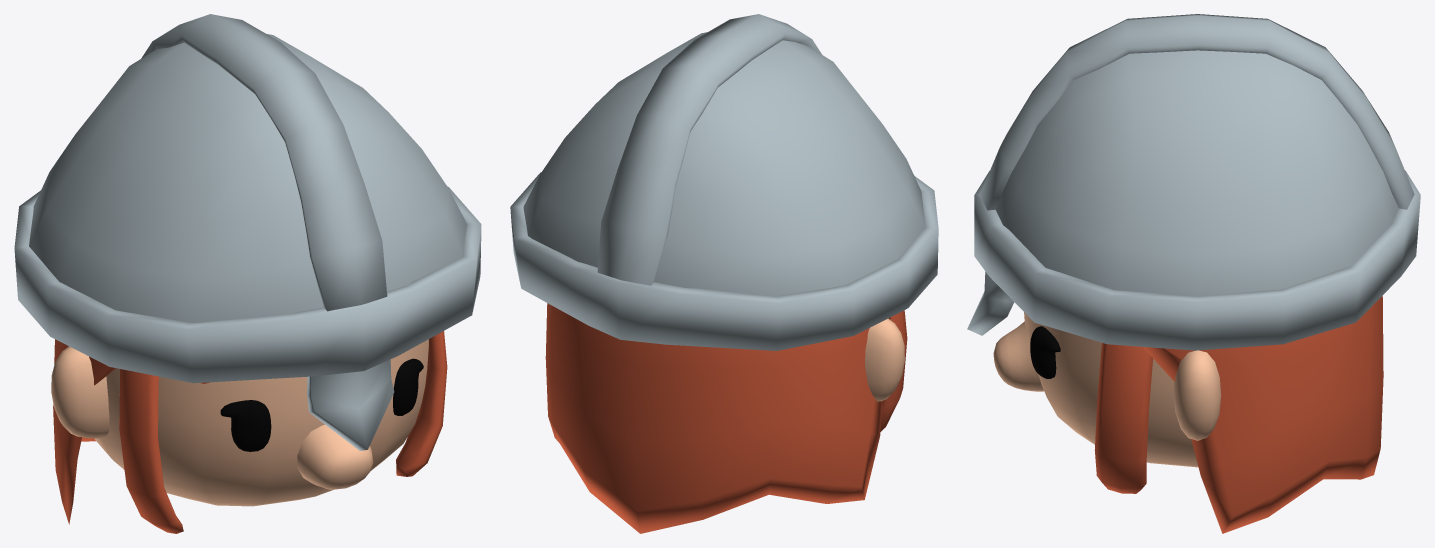
The model's file is Knight3_Head.glb.
3 views of the same model, side by side, from view 1: azimuth 30°, elevation 25°; view 2: azimuth 150°, elevation 25°; view 3: azimuth 270°, elevation 25° (orthographic). The views are drawn at different scales.
Parts seen in each view (by area): view 1: Knight3_Head; view 2: Knight3_Head; view 3: Knight3_Head.
Boxes of the visible parts, x1,y1,x2,y2 form: Knight3_Head: [14, 14, 481, 533]; Knight3_Head: [510, 14, 938, 533]; Knight3_Head: [967, 14, 1420, 533].
Bounding box in the file's own units: 1.86 × 2.11 × 1.89.
